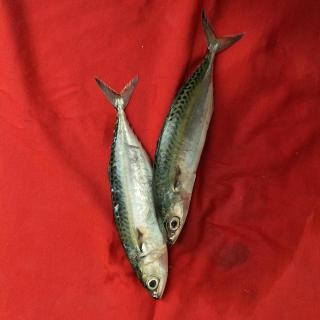Ikan: (93, 6, 249, 304)
